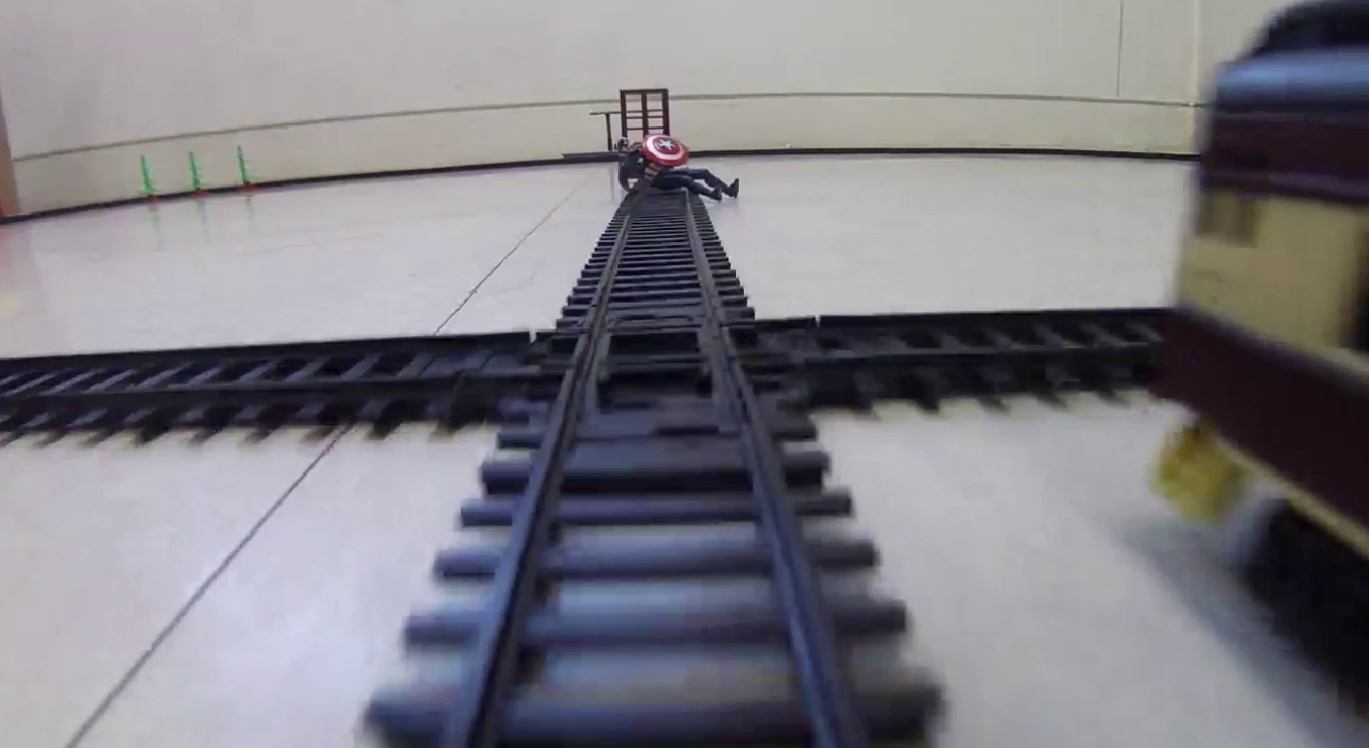people: (613, 134, 742, 203)
